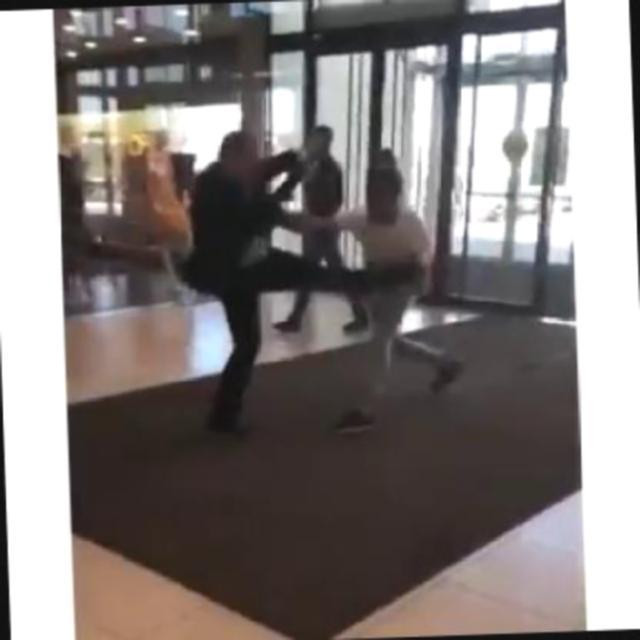fight: (192, 128, 428, 420)
